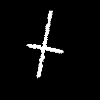single_crochet: (27, 11, 62, 77)
